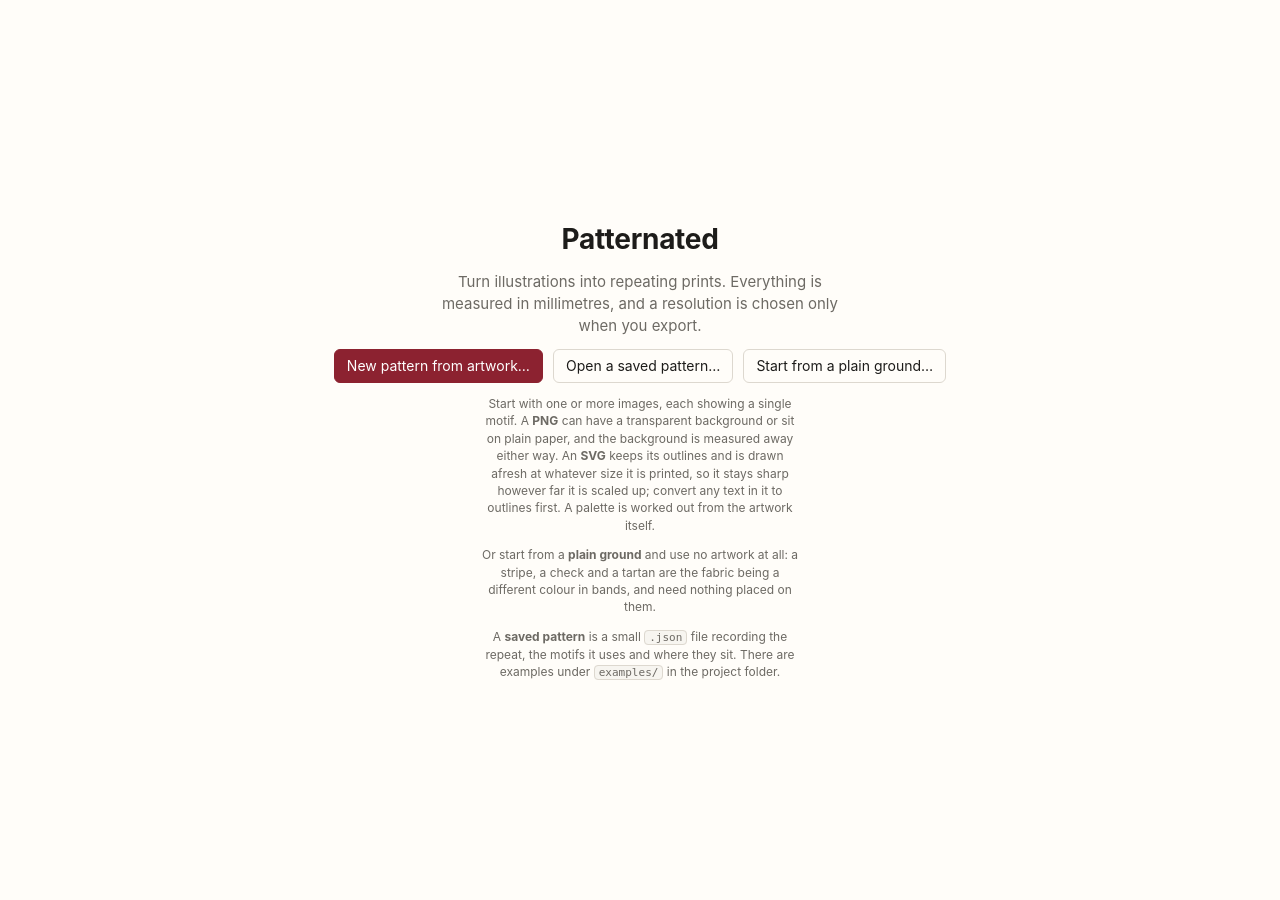
Test case: which controls a layout shows › offers the mirror-line share only for a mirror
The width and height of the screenshot is (1280, 900).
Click the button "Open a saved pattern…" at (643, 366), box [553, 349, 733, 383]
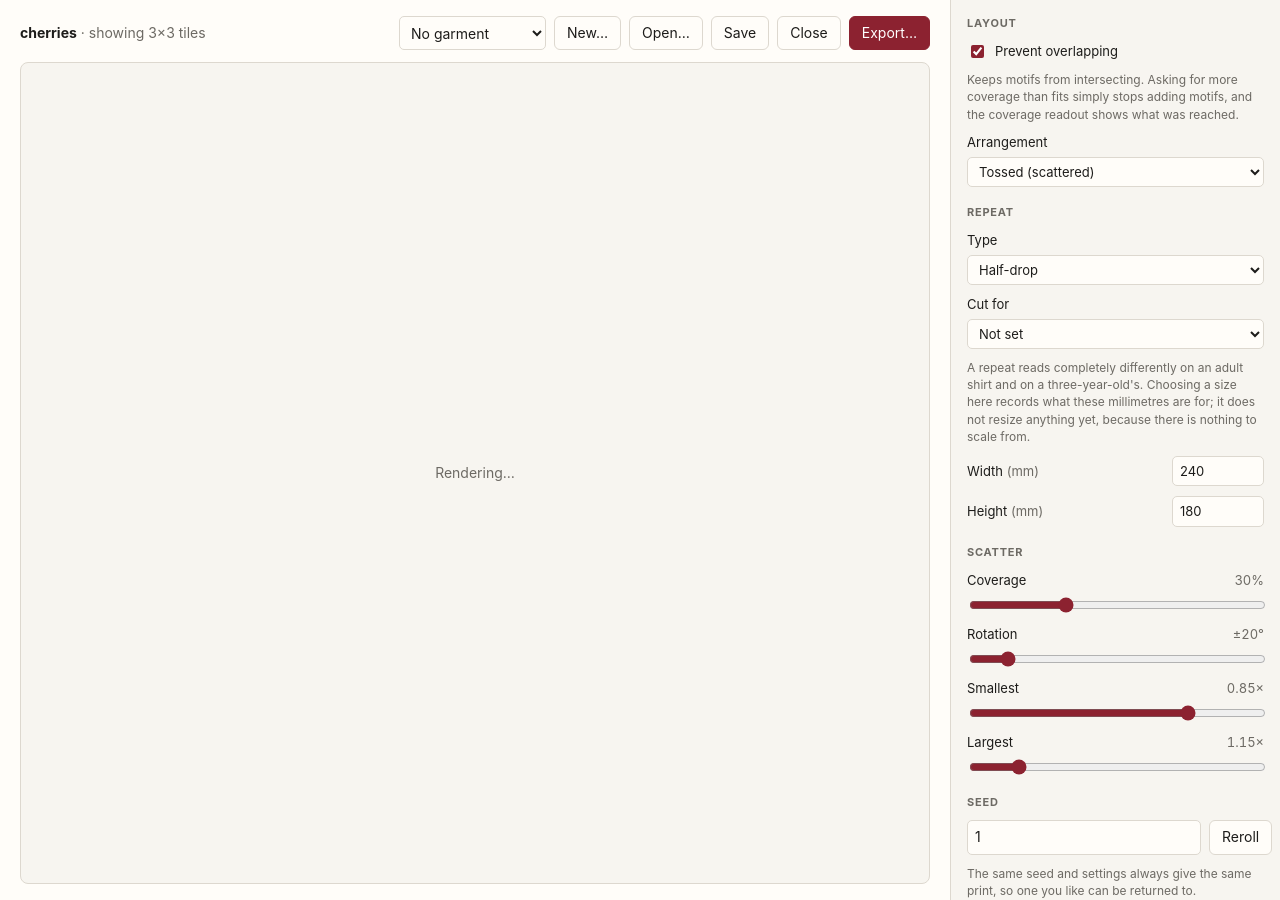
expect the button with test id "close" is shown: met, box [777, 16, 841, 50]
Select "Mirror, side to side" in the dropdown with test id "layout" at (1116, 172), box [967, 157, 1264, 187]
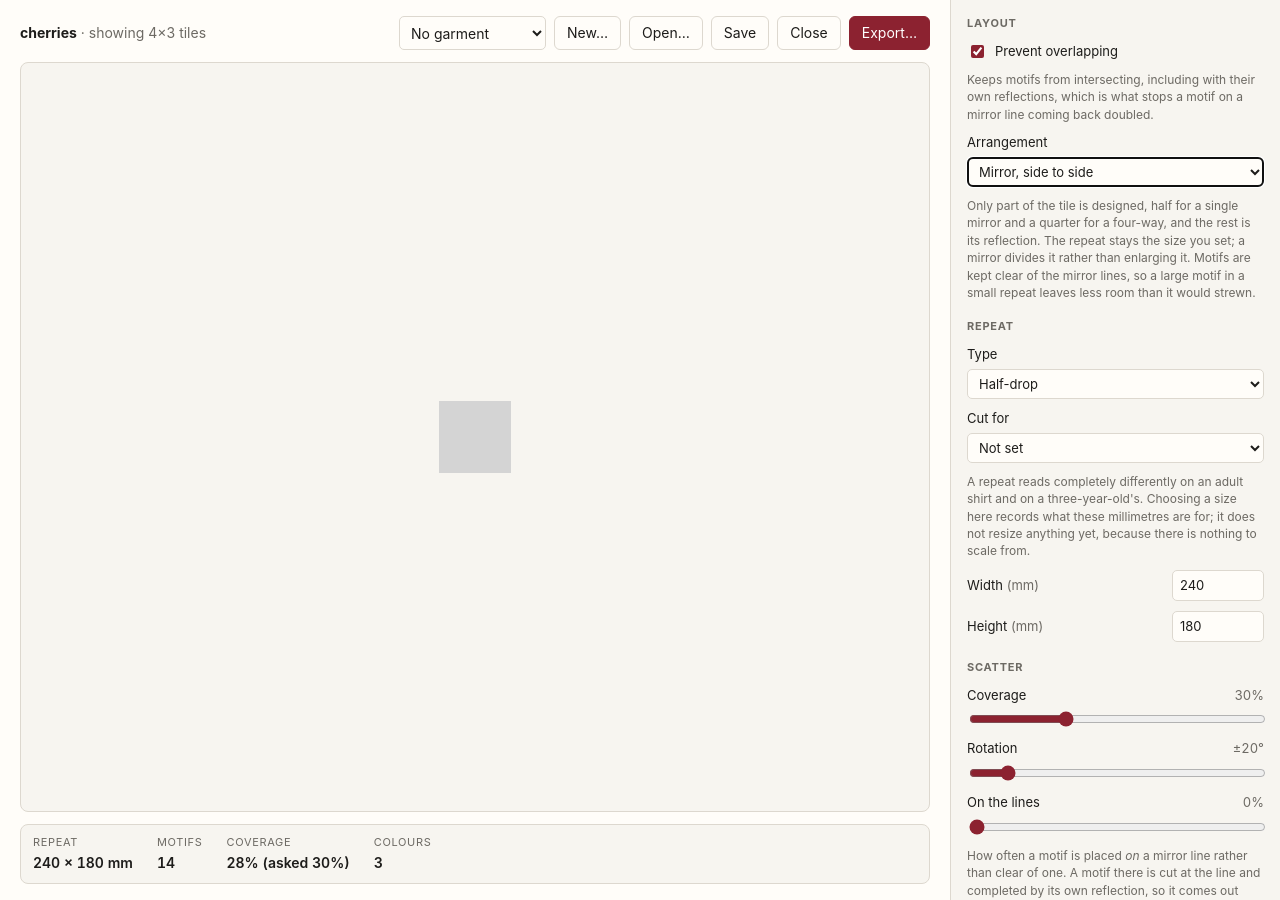
expect the slider with test id "coverage" is shown: met, box [969, 711, 1266, 727]
expect the slider with test id "on-the-lines" is shown: met, box [969, 819, 1266, 835]
